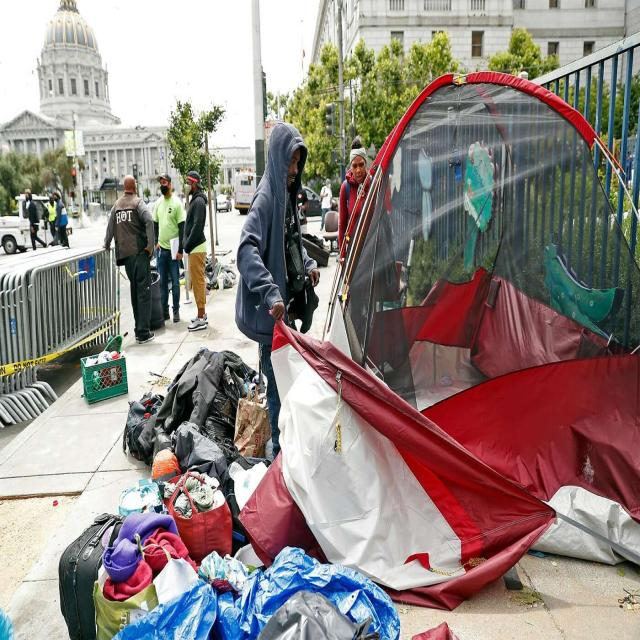loitering: (228, 113, 320, 448), (335, 114, 384, 340), (110, 156, 155, 338), (150, 165, 188, 332), (185, 159, 211, 333)
